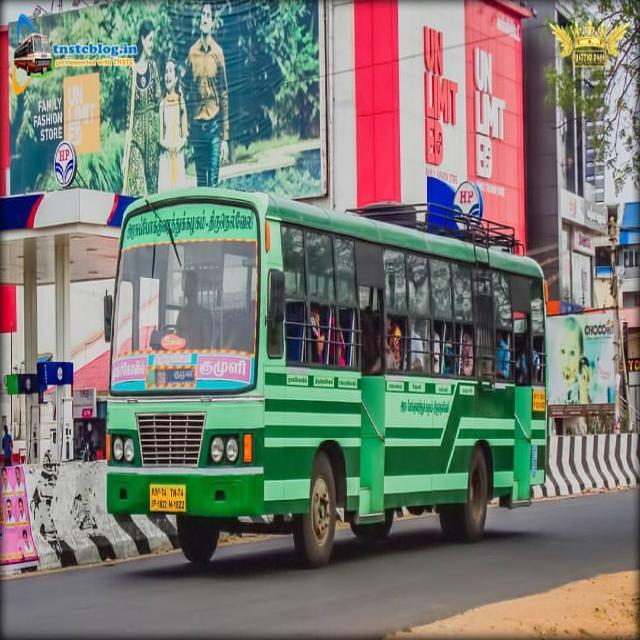Bus: (100, 174, 550, 572)
